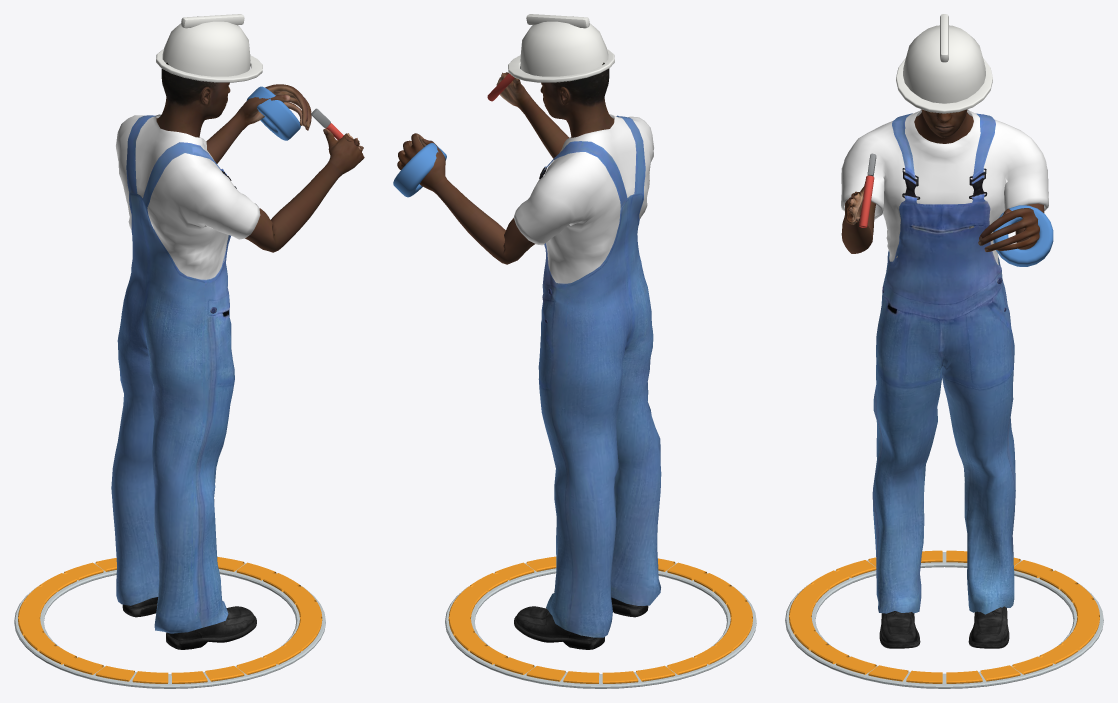
File: MDO-INS-001.glb
3 renders of one model, left to right at view 1: azimuth 30°, elevation 25°; view 2: azimuth 150°, elevation 25°; view 3: azimuth 270°, elevation 25°, orthographic. The views are drawn at different scales.
Visible parts, largest first — view 1: MDO-INS-001_pessoa_male_worksuit01, MDO-INS-001_pessoa, MDO-INS-001_capacete, MDO-INS-001_anel_fundo, MDO-INS-001_pessoa_shoes04, MDO-INS-001_ferE_rolo_fio, MDO-INS-001_capacete_aba, MDO-INS-001_capacete_friso; view 2: MDO-INS-001_pessoa_male_worksuit01, MDO-INS-001_pessoa, MDO-INS-001_capacete, MDO-INS-001_anel_fundo, MDO-INS-001_pessoa_shoes04, MDO-INS-001_ferE_rolo_fio, MDO-INS-001_capacete_aba, MDO-INS-001_capacete_friso; view 3: MDO-INS-001_pessoa_male_worksuit01, MDO-INS-001_pessoa, MDO-INS-001_capacete, MDO-INS-001_anel_fundo, MDO-INS-001_pessoa_shoes04, MDO-INS-001_ferE_rolo_fio, MDO-INS-001_capacete_aba.
Boxes of the visible parts, x1,y1,x2,y2 form: MDO-INS-001_pessoa_male_worksuit01: [111, 114, 260, 633]; MDO-INS-001_pessoa: [156, 62, 364, 252]; MDO-INS-001_capacete: [162, 16, 250, 76]; MDO-INS-001_anel_fundo: [14, 563, 325, 688]; MDO-INS-001_pessoa_shoes04: [122, 597, 256, 649]; MDO-INS-001_ferE_rolo_fio: [246, 86, 300, 140]; MDO-INS-001_capacete_aba: [156, 49, 262, 82]; MDO-INS-001_capacete_friso: [181, 14, 244, 28]; MDO-INS-001_pessoa_male_worksuit01: [513, 114, 661, 637]; MDO-INS-001_pessoa: [397, 62, 614, 264]; MDO-INS-001_capacete: [520, 16, 608, 76]; MDO-INS-001_anel_fundo: [445, 563, 756, 688]; MDO-INS-001_pessoa_shoes04: [514, 591, 648, 649]; MDO-INS-001_ferE_rolo_fio: [393, 143, 446, 197]; MDO-INS-001_capacete_aba: [508, 49, 614, 82]; MDO-INS-001_capacete_friso: [526, 14, 589, 28]; MDO-INS-001_pessoa_male_worksuit01: [841, 109, 1048, 614]; MDO-INS-001_pessoa: [841, 109, 1044, 253]; MDO-INS-001_capacete: [903, 25, 985, 103]; MDO-INS-001_anel_fundo: [785, 552, 1103, 688]; MDO-INS-001_pessoa_shoes04: [879, 606, 1009, 648]; MDO-INS-001_ferE_rolo_fio: [993, 205, 1053, 266]; MDO-INS-001_capacete_aba: [896, 58, 992, 113].
Size of the model in its own units: 0.9429 by 1.8 by 0.84.
Materials: 11 (5 with a texture image).
